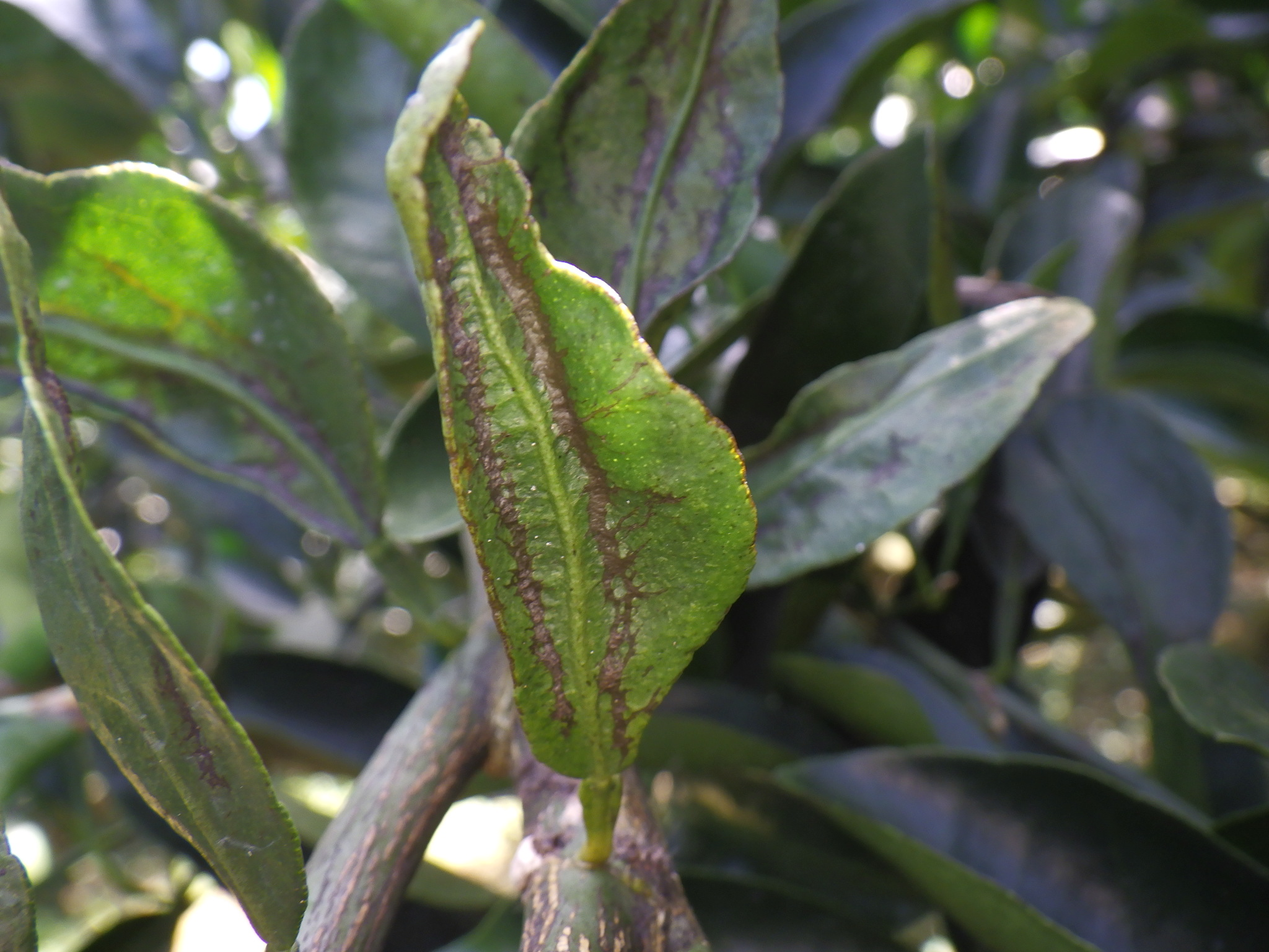Thrips_Damage: (439, 118, 647, 755)
